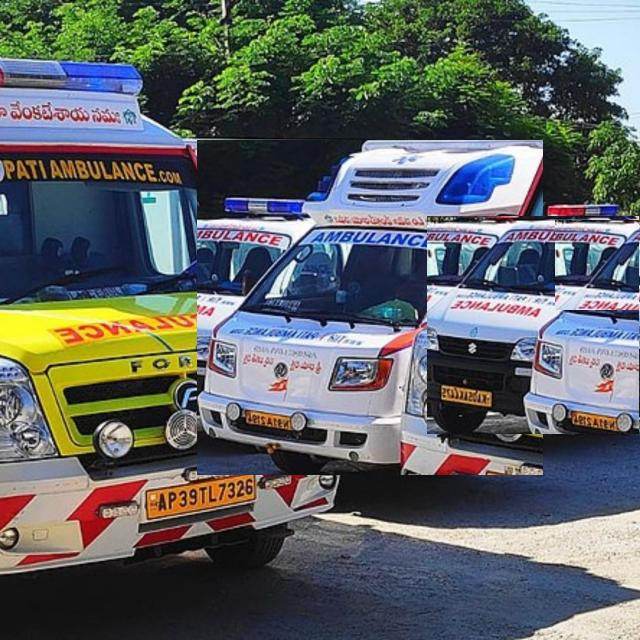emergency: (0, 58, 339, 573), (198, 141, 543, 475), (428, 216, 639, 434), (556, 220, 639, 310)
